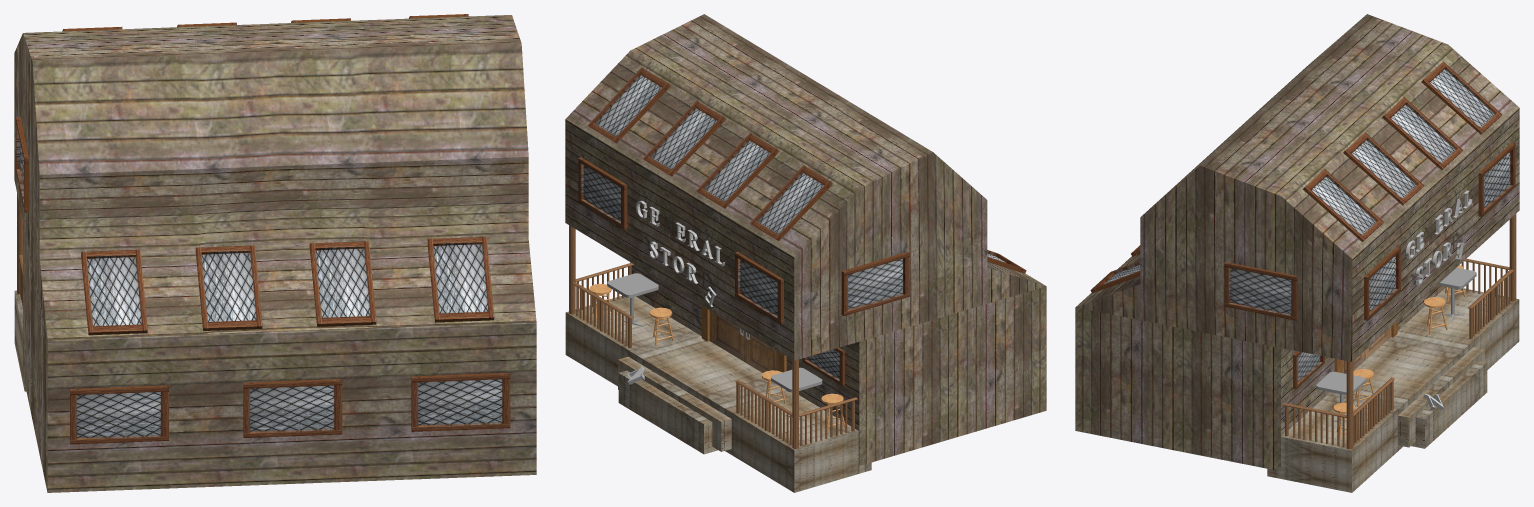
The model's file is Gen_Store.fbx.
3 renders of one model, left to right at view 1: azimuth 30°, elevation 25°; view 2: azimuth 150°, elevation 25°; view 3: azimuth 270°, elevation 25°, orthographic. The views are drawn at different scales.
Visible parts, largest first — view 1: GenStore_Good:polySurface1, pCube214, pCube215, pCube213, pCube205, pCube206, pCube208, pCube204, pCube216, pCube195; view 2: GenStore_Good:polySurface1, pCube195, pCube196, pCube216, pCube211, pCube212, pCube209, pCube210, pCube198, pCube199, pCube197, pCube203 (+4 smaller); view 3: GenStore_Good:polySurface1, pCube195, pCube217, pCube196, pCube211, pCube210, pCube212, pCube209, pCube197, pCube199, pCube198, pCube202 (+5 smaller).
Boxes of the visible parts, x1=… form: GenStore_Good:polySurface1: x1=14, y1=15, x2=536, y2=492; pCube214: x1=411, y1=372, x2=510, y2=431; pCube215: x1=243, y1=379, x2=342, y2=437; pCube213: x1=70, y1=385, x2=168, y2=444; pCube205: x1=427, y1=237, x2=494, y2=322; pCube206: x1=309, y1=241, x2=376, y2=326; pCube208: x1=195, y1=245, x2=262, y2=330; pCube204: x1=81, y1=249, x2=147, y2=335; pCube216: x1=16, y1=117, x2=29, y2=212; pCube195: x1=14, y1=290, x2=26, y2=391; GenStore_Good:polySurface1: x1=565, y1=14, x2=1046, y2=465; pCube195: x1=565, y1=296, x2=871, y2=492; pCube196: x1=618, y1=370, x2=717, y2=454; pCube216: x1=841, y1=251, x2=909, y2=315; pCube211: x1=643, y1=101, x2=725, y2=176; pCube212: x1=588, y1=67, x2=670, y2=143; pCube209: x1=750, y1=165, x2=832, y2=241; pCube210: x1=696, y1=133, x2=779, y2=208; pCube198: x1=578, y1=157, x2=627, y2=229; pCube199: x1=735, y1=252, x2=783, y2=323; pCube197: x1=618, y1=356, x2=731, y2=451; pCube203: x1=802, y1=347, x2=844, y2=385; GenStore_Good:polySurface1: x1=1075, y1=14, x2=1519, y2=471; pCube195: x1=1267, y1=287, x2=1519, y2=492; pCube217: x1=1224, y1=262, x2=1297, y2=320; pCube196: x1=1411, y1=360, x2=1487, y2=448; pCube211: x1=1343, y1=132, x2=1424, y2=205; pCube210: x1=1382, y1=97, x2=1462, y2=170; pCube212: x1=1303, y1=169, x2=1383, y2=241; pCube209: x1=1421, y1=61, x2=1502, y2=134; pCube197: x1=1398, y1=347, x2=1484, y2=447; pCube199: x1=1478, y1=142, x2=1515, y2=216; pCube198: x1=1364, y1=246, x2=1400, y2=320; pCube202: x1=1293, y1=351, x2=1324, y2=389.
Bounding box in the file's own units: 168 × 113 × 153.
